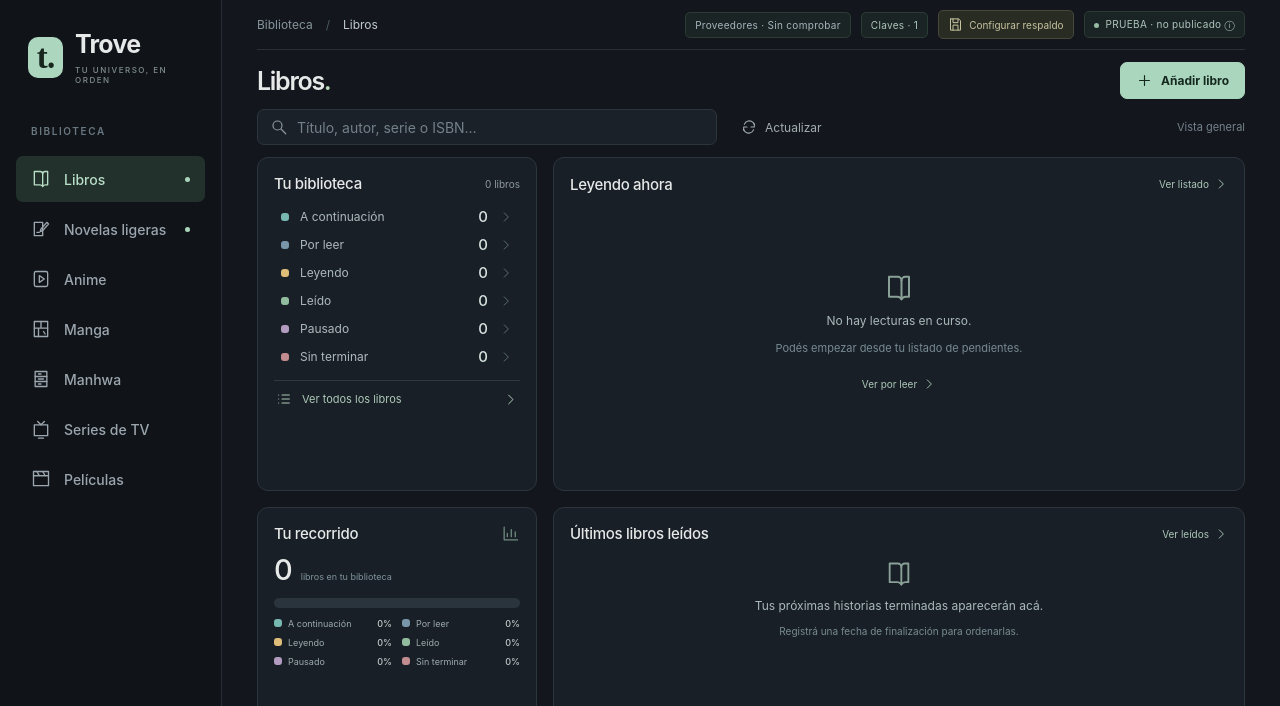
Scenario: Catálogo de Libros › consulta y revisa antes de agregar una edición y abre su snapshot local
Expected: the button "Ver todos los libros" is shown, [274,380,520,407]
Type "9780547928227" into the search field named "Buscar por título" at (487, 127), box [257,109,717,145]
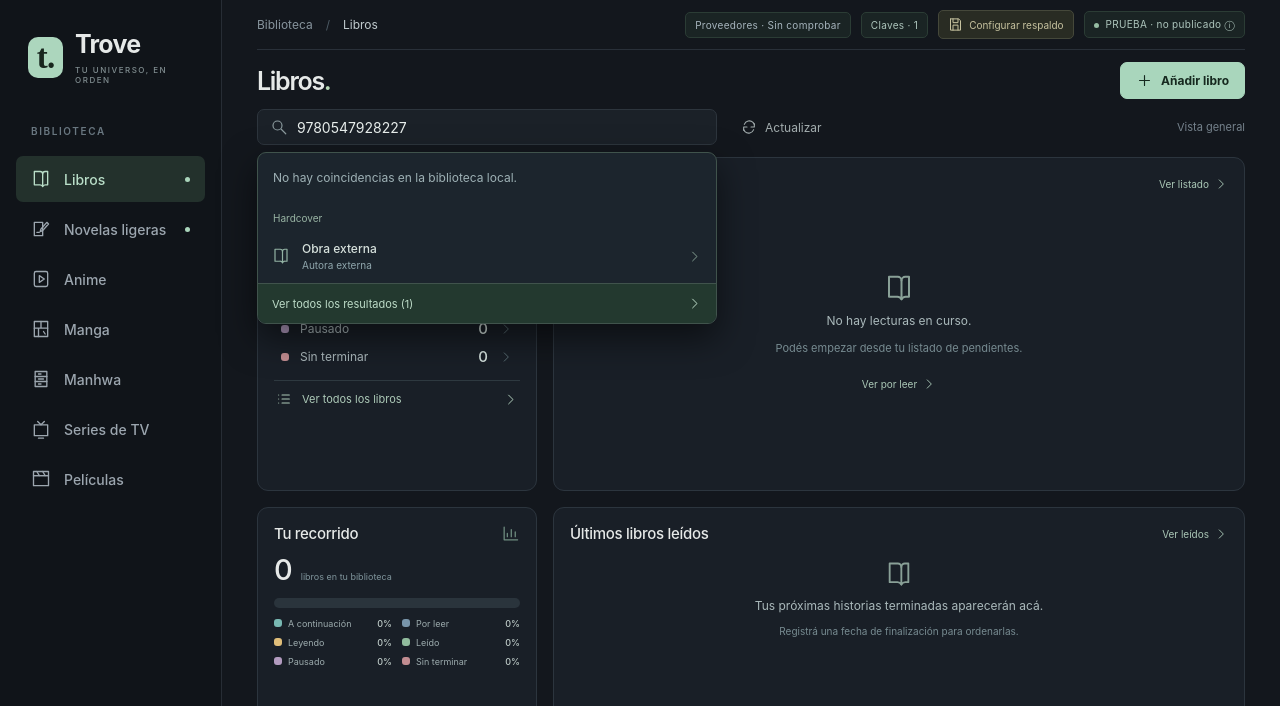
Click the button "Obra externa Autora externa" at (339, 249), box [258,229,716,283]
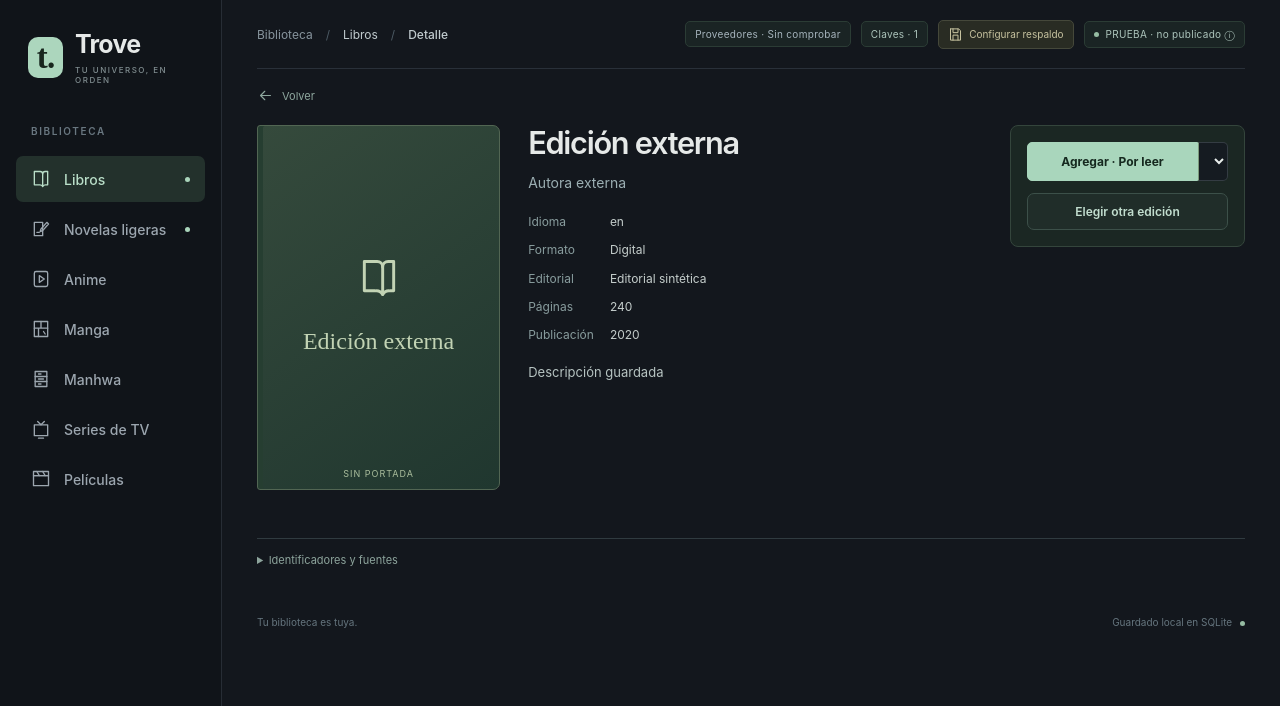
Expected: the element named "Detalle del libro" is shown, [257,69,1245,567]
Click the button "Agregar · Por leer" at (1112, 162), box [1027,142,1198,181]
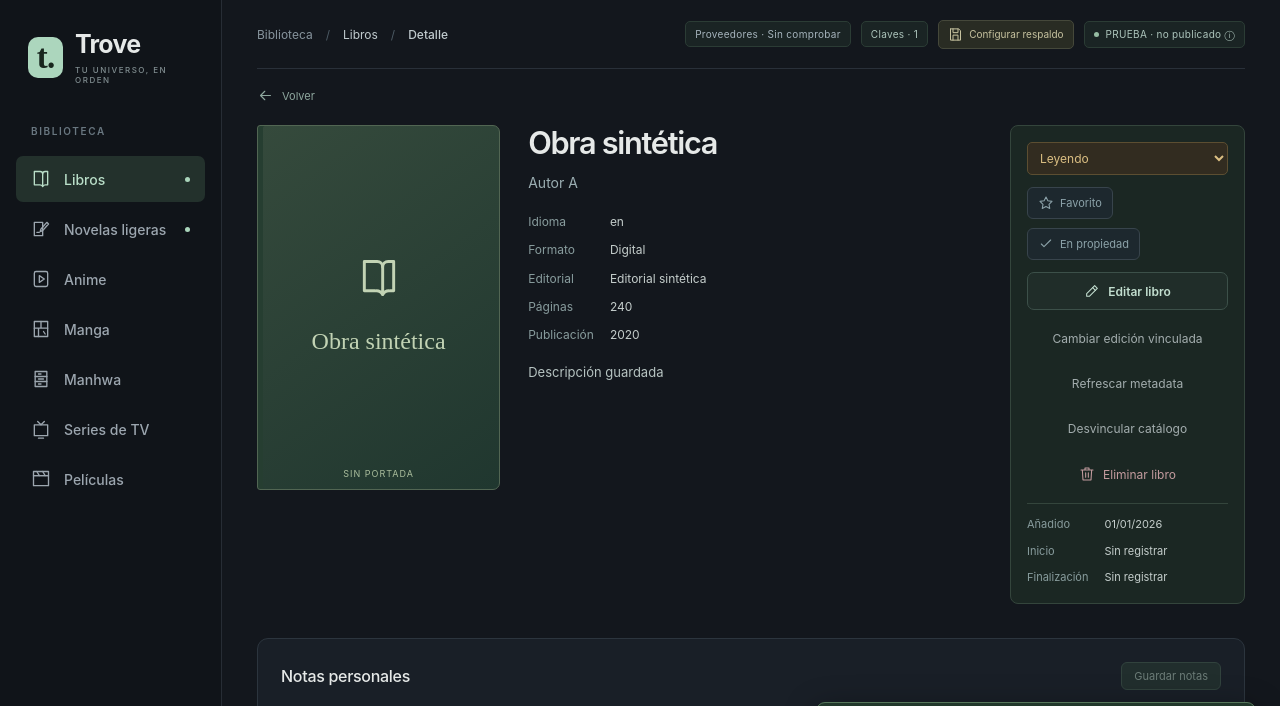
Expected: the text "Descripción guardada" is shown, [528,364,664,380]
Expected: the heading "Obra sintética" is shown, [528,124,717,161]
